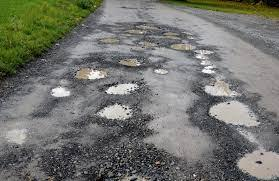pothole: (193, 45, 240, 95), (205, 96, 261, 129), (235, 147, 279, 181), (95, 101, 136, 123), (102, 78, 140, 97), (70, 64, 109, 81), (48, 83, 74, 99), (118, 53, 144, 69), (166, 41, 197, 53), (95, 34, 122, 47), (134, 36, 160, 48), (124, 26, 152, 37), (135, 21, 162, 30), (158, 29, 182, 39), (152, 66, 171, 78)
